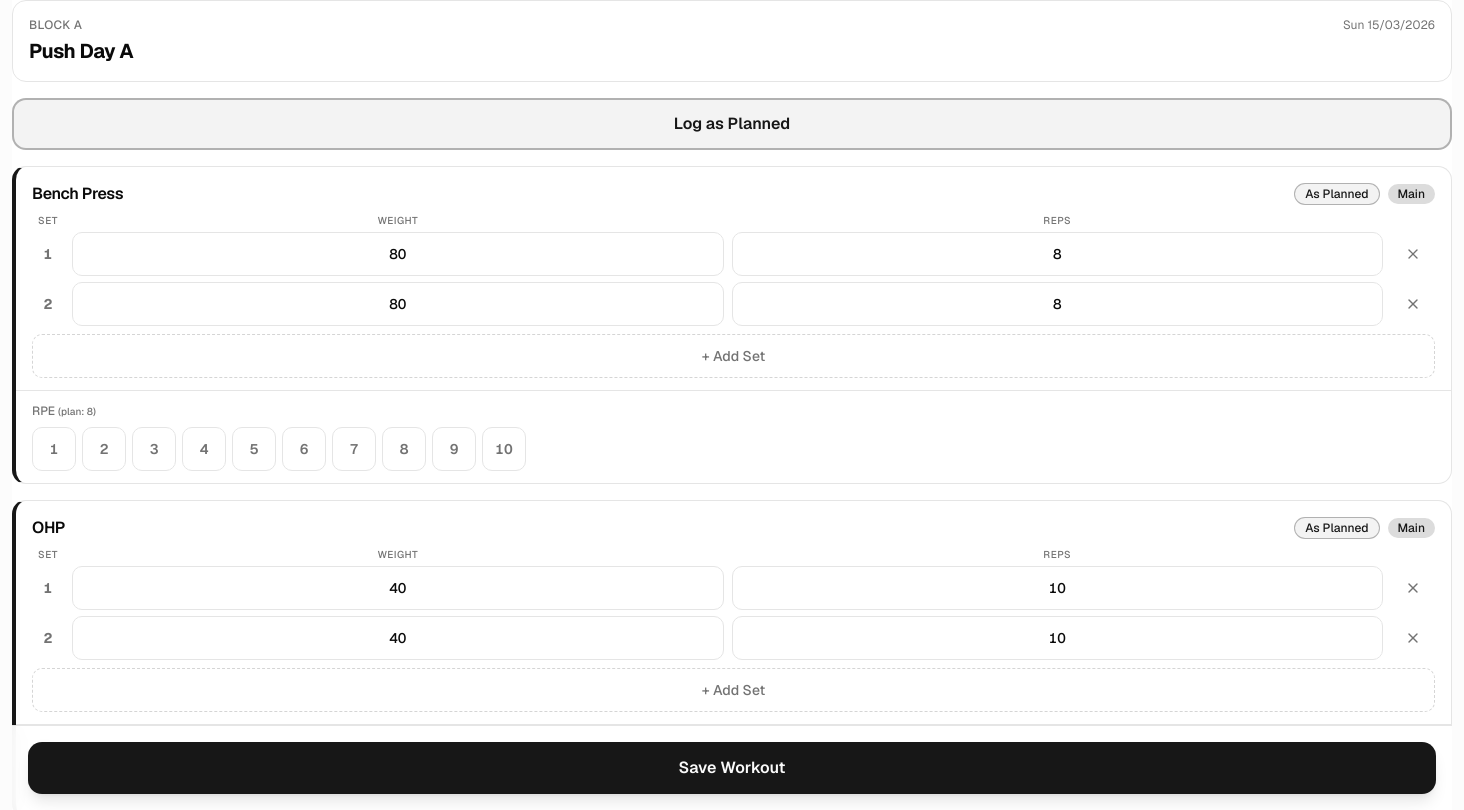
Test case: Per-exercise "As Planned" button — resistance › works for multiple exercises independently
The image size is (1464, 810).
# Modify second exercise
Clear the field with test id "weight-input-1-0" at (398, 588), box top-left (72, 566), bottom-right (724, 610)
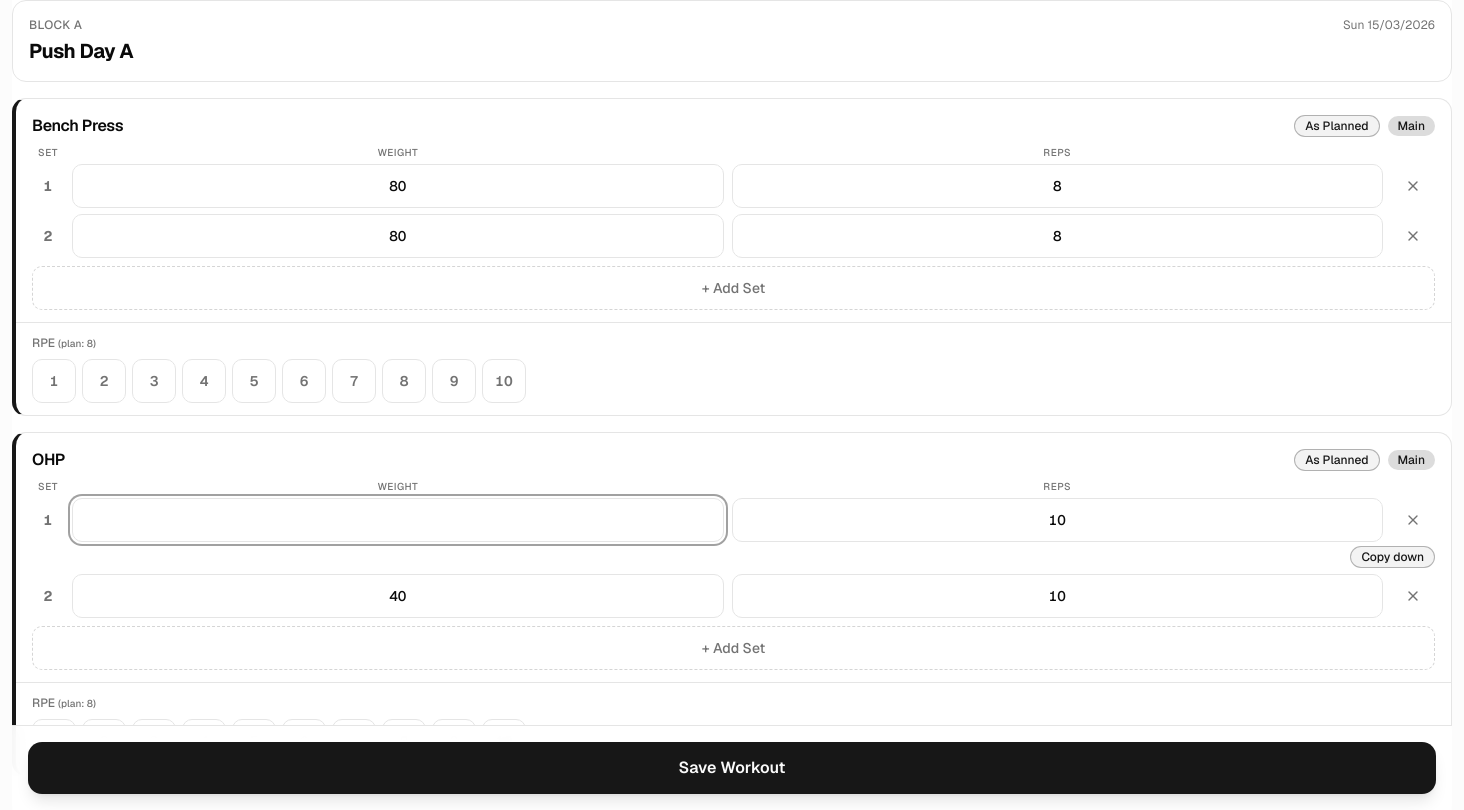
Type "50" into the field with test id "weight-input-1-0" at (398, 520), box top-left (72, 498), bottom-right (724, 542)
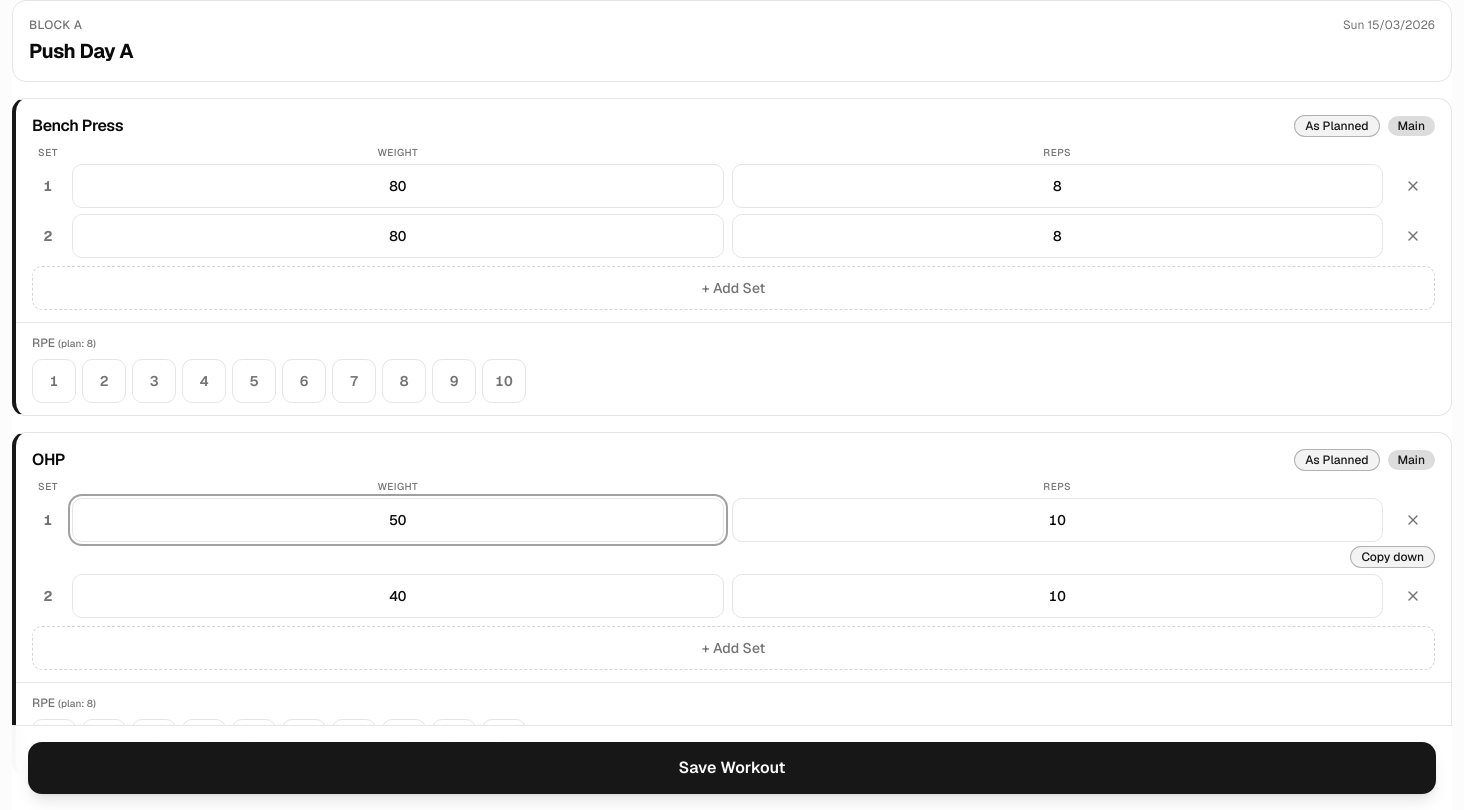
# Tap "As Planned" for second exercise only
Click the button with test id "as-planned-btn-1" at (1337, 460), box top-left (1294, 449), bottom-right (1380, 471)
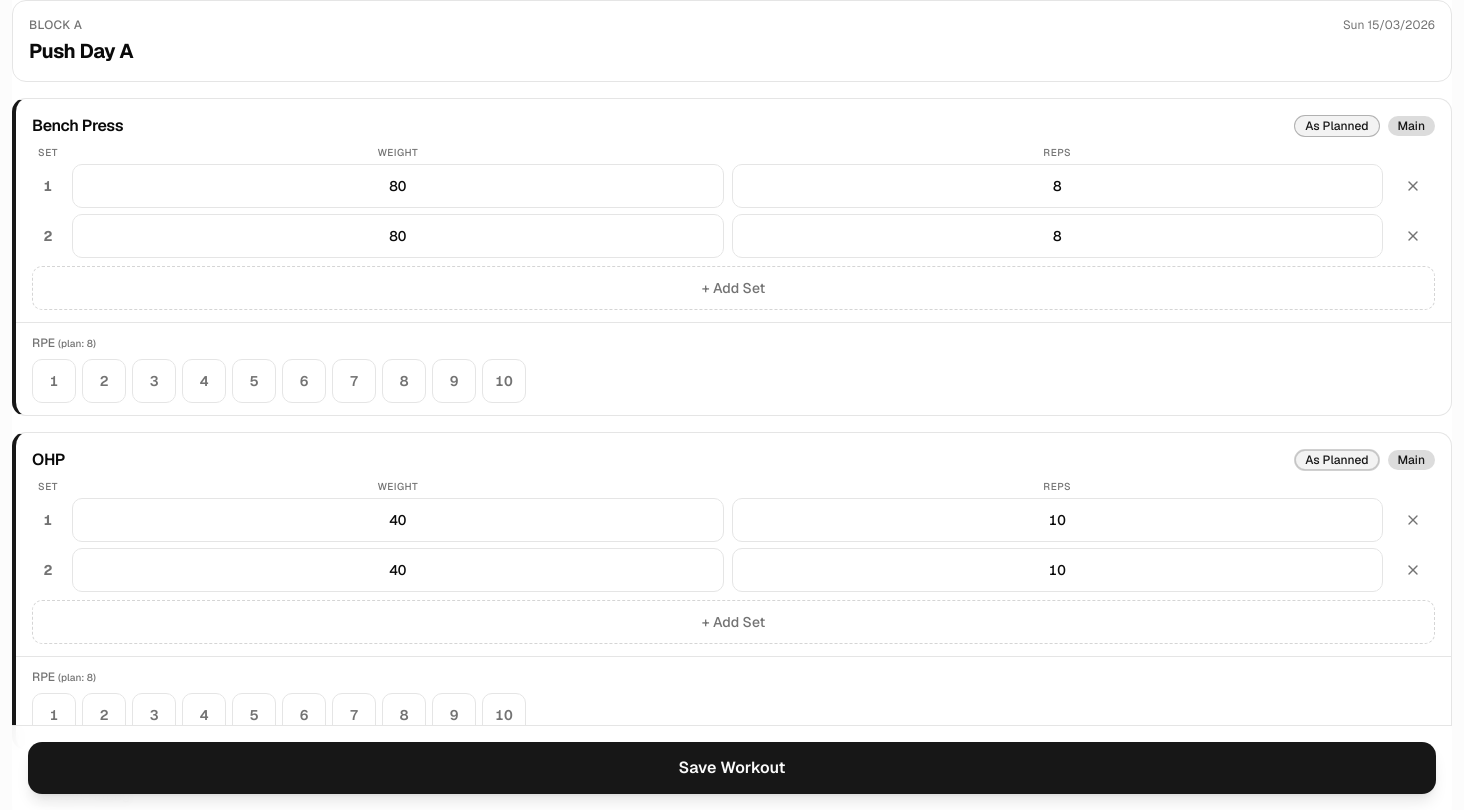
Expected: the field with test id "weight-input-1-1" holds "40", top-left (72, 548), bottom-right (724, 592)
Expected: the field with test id "weight-input-1-0" holds "40", top-left (72, 498), bottom-right (724, 542)
